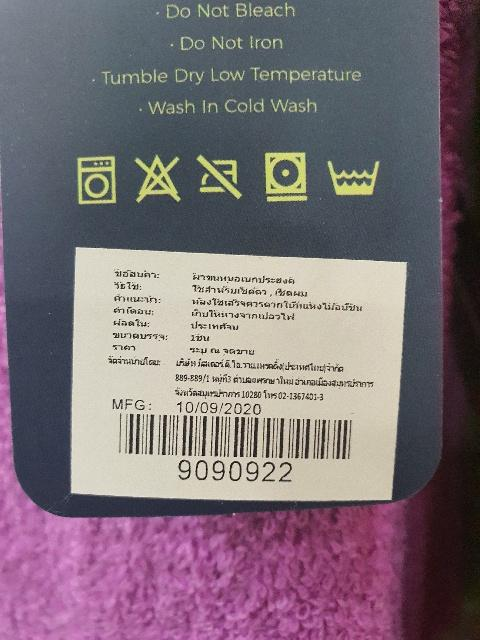Barcode: (114, 408, 357, 487)
